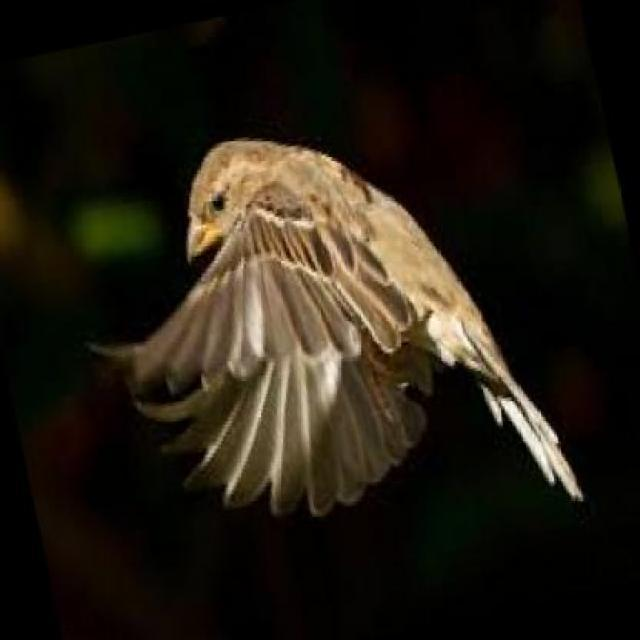Bird: (151, 123, 574, 530)
